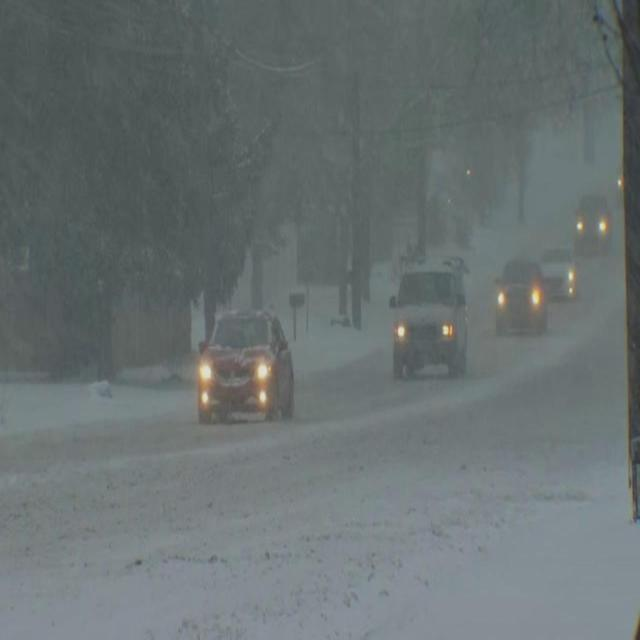Car: (186, 300, 298, 433), (486, 251, 544, 336), (571, 175, 610, 255), (540, 223, 580, 301)
Van: (389, 246, 464, 381)
